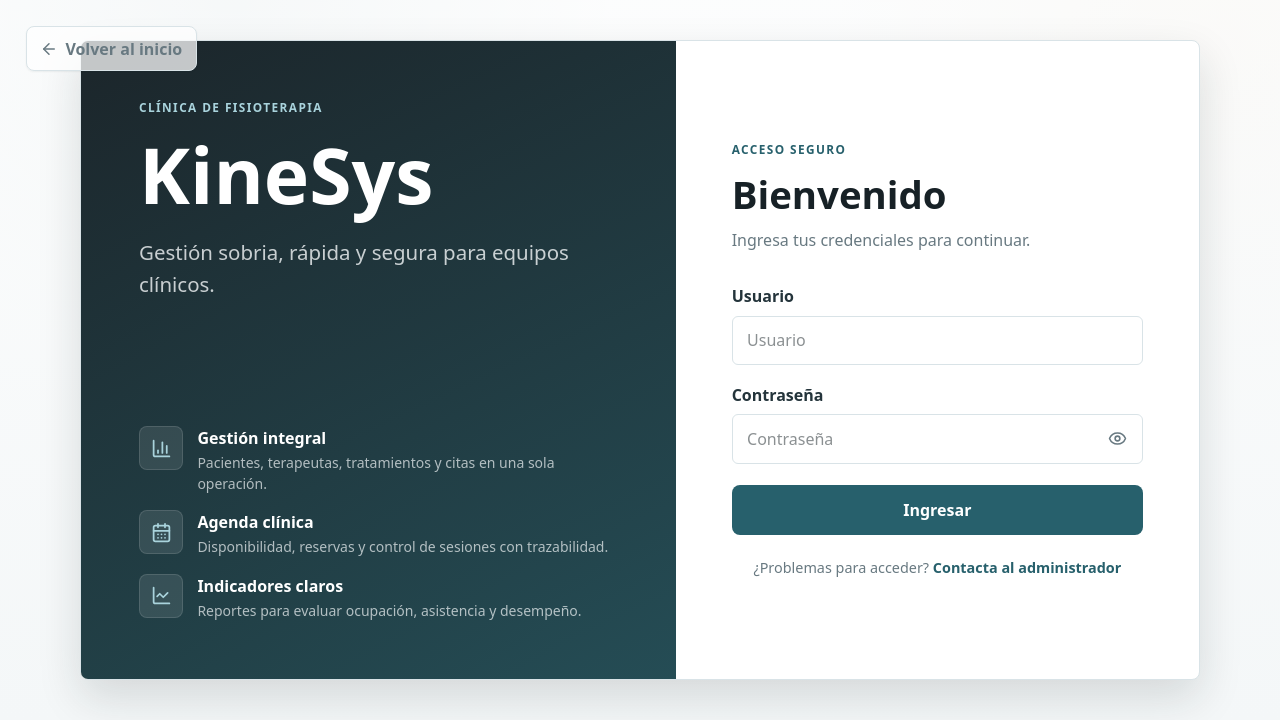
it: CI-P06 | Error del servidor — respuesta 500 (CI6) › muestra mensaje de error genérico ante fallo del servidor
Step 1. Type "user01" into the field with placeholder "Usuario" → (937, 341), box 732,316 -> 1143,365
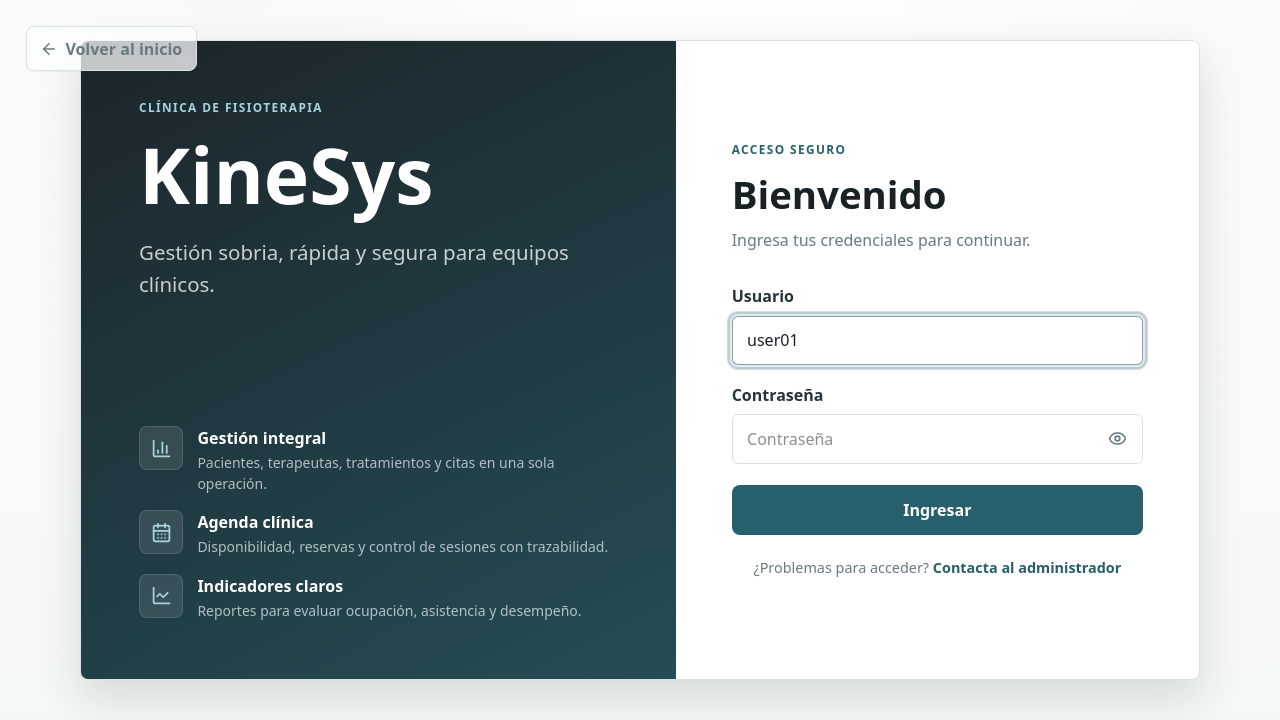
Step 2. Type "pass01" into the password field with placeholder "Contraseña" → (937, 439), box 732,414 -> 1143,464
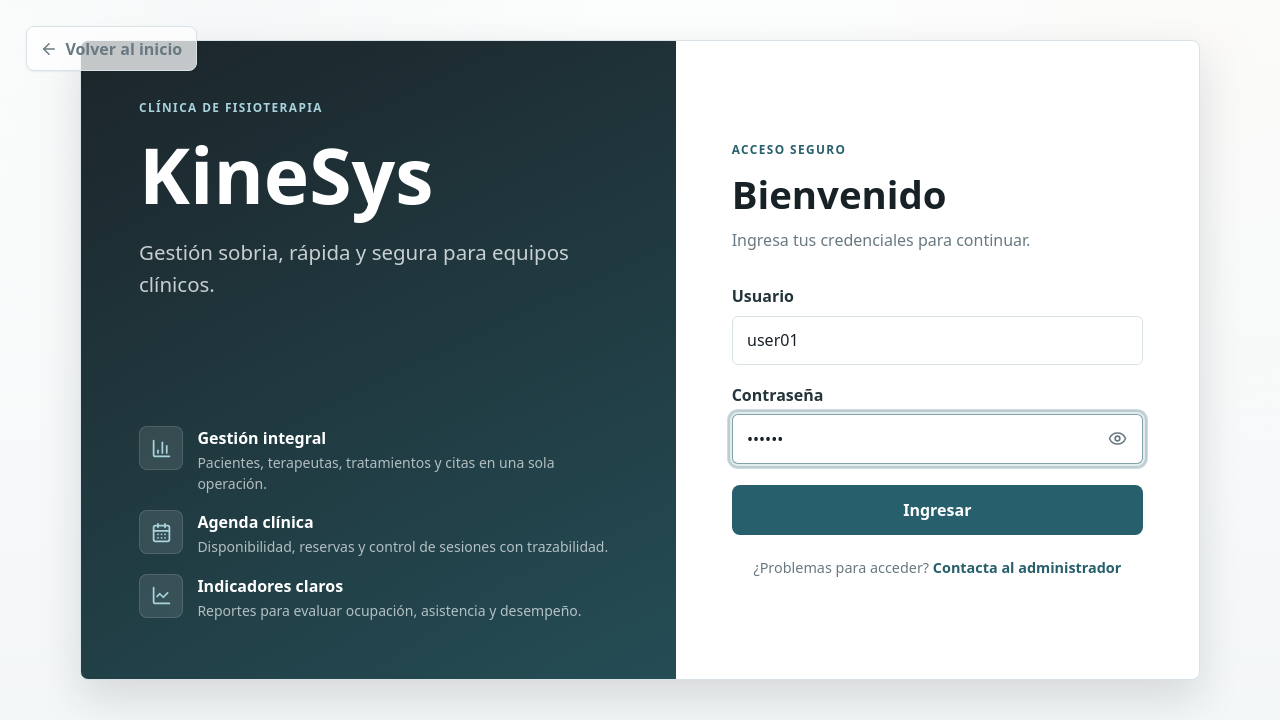
Step 3. Submit the form "Usuario Contraseña Ingresar", box 732,284 -> 1143,535
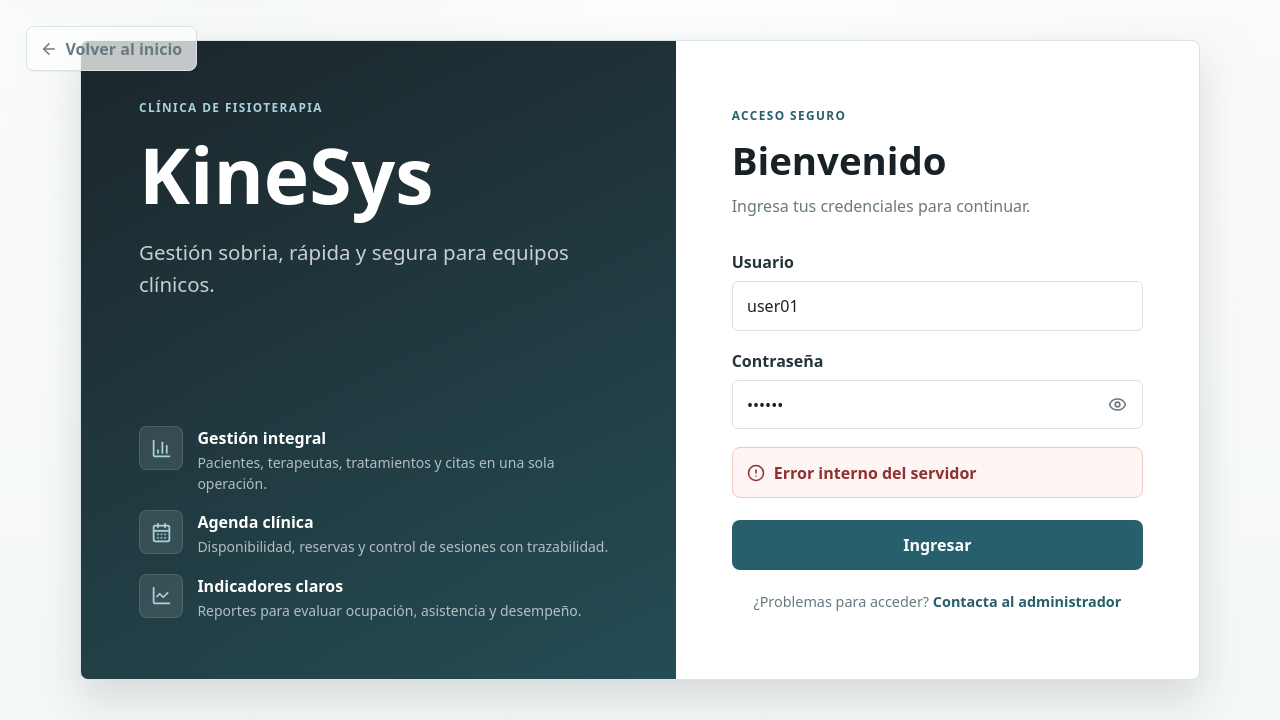
Expected: the text "Error interno del servidor" is shown, 774,460 -> 977,484
